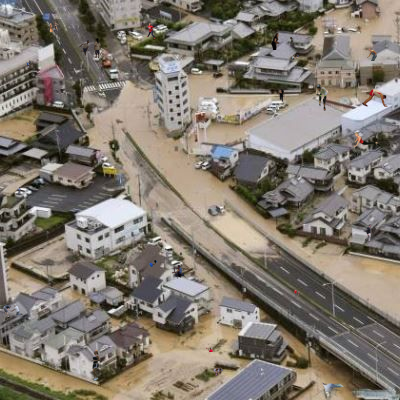Human: (362, 89, 390, 107), (321, 382, 352, 398), (79, 38, 101, 58), (353, 132, 380, 147), (271, 33, 294, 50), (50, 21, 85, 32), (315, 84, 329, 111), (91, 349, 101, 381), (3, 304, 23, 317), (172, 265, 187, 279), (146, 23, 159, 39), (365, 224, 373, 241), (367, 48, 377, 61), (213, 366, 223, 376), (294, 289, 305, 298), (149, 256, 158, 267), (278, 89, 285, 102), (203, 346, 213, 352), (292, 54, 299, 60), (26, 60, 31, 68), (217, 249, 222, 255), (18, 187, 21, 194), (396, 123, 400, 126), (349, 172, 351, 177), (218, 116, 221, 119)
